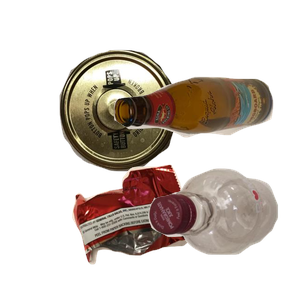glass: (111, 74, 300, 204)
metal: (57, 47, 227, 211)
plastic: (146, 166, 300, 300)
trash: (70, 162, 257, 300)
